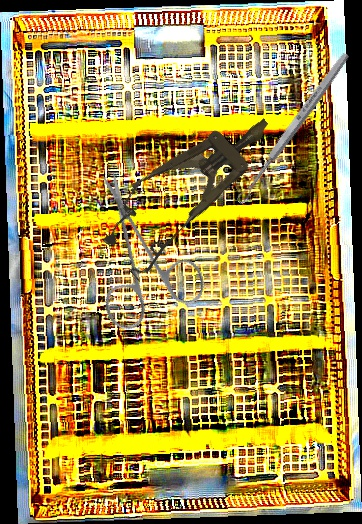Iris Scissors: (49, 168, 234, 354)
Speculum: (88, 91, 293, 284)
Surgical Spoon: (234, 50, 352, 206)
